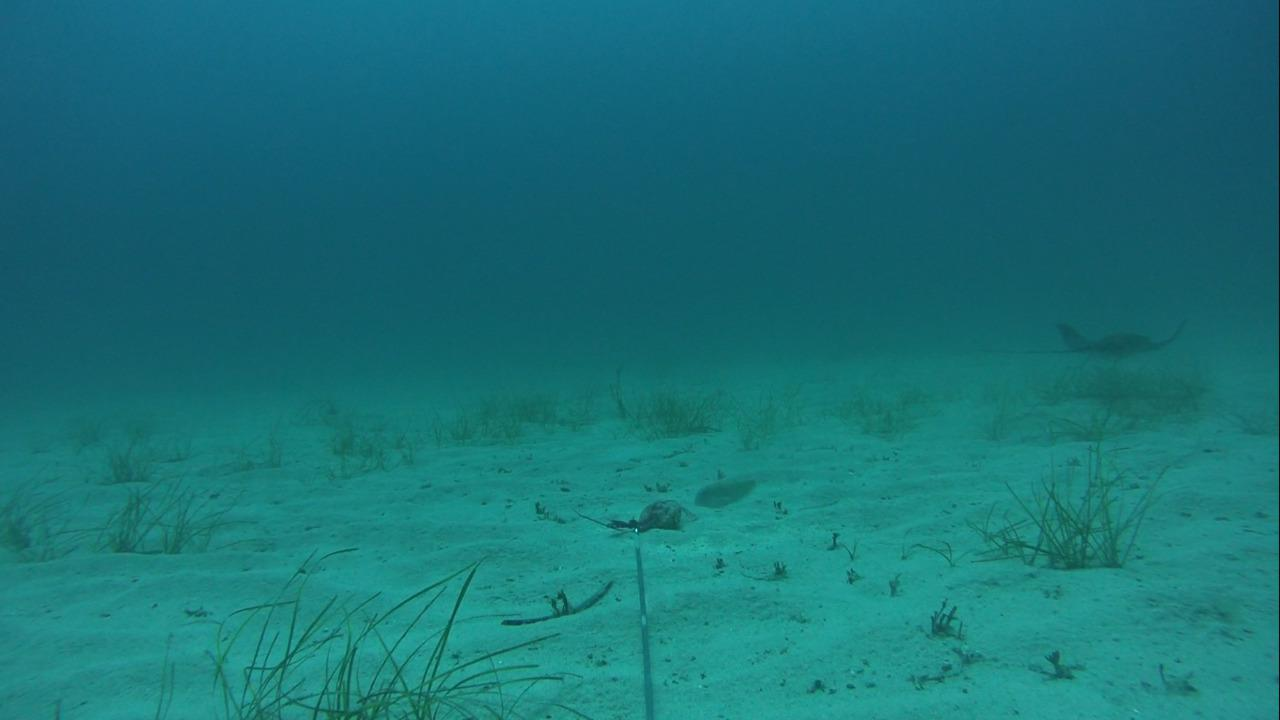myliobatis: (943, 319, 1194, 365)
raor: (689, 467, 765, 511)
